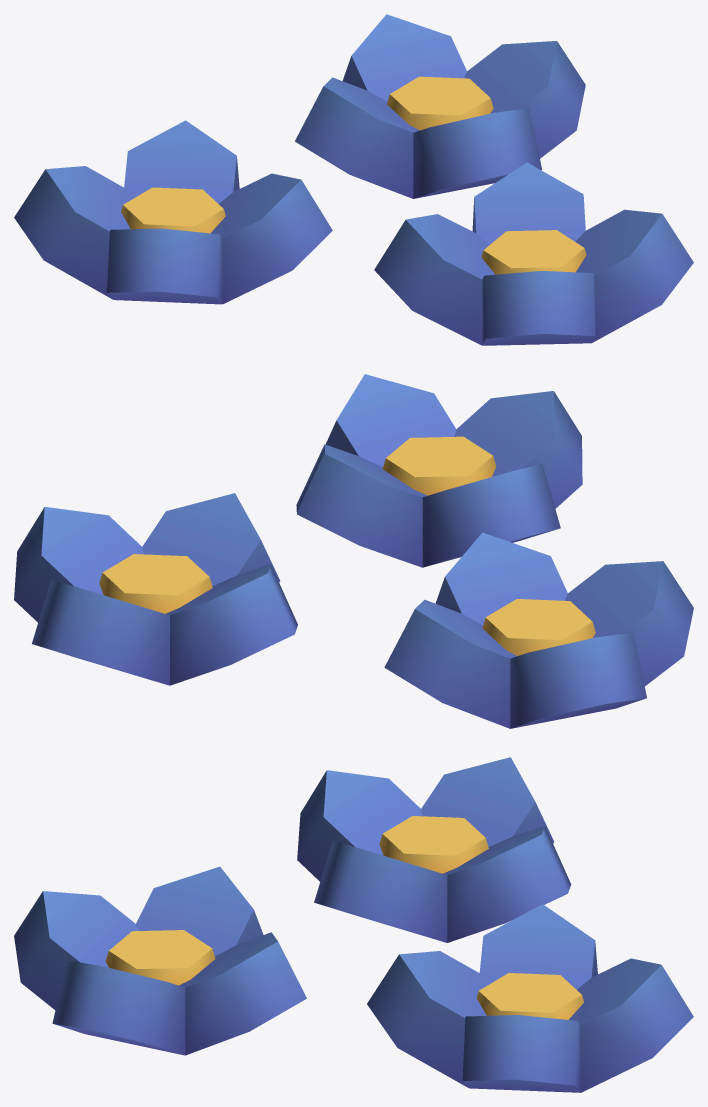
The model's file is flowers.glb.
3 views of the same model, one above another, from view 1: azimuth 30°, elevation 25°; view 2: azimuth 150°, elevation 25°; view 3: azimuth 270°, elevation 25° (orthographic). The views are drawn at different scales.
Visible parts, largest first — view 1: flowers; view 2: flowers; view 3: flowers.
Boxes of the visible parts, left/top/right/bottom form: flowers: left=14, top=14, right=693, bottom=345; flowers: left=14, top=374, right=693, bottom=728; flowers: left=14, top=757, right=693, bottom=1092.
Bounding box in the file's own units: 0.7766 × 0.1371 × 0.7857.
1 material, 1 textured.
